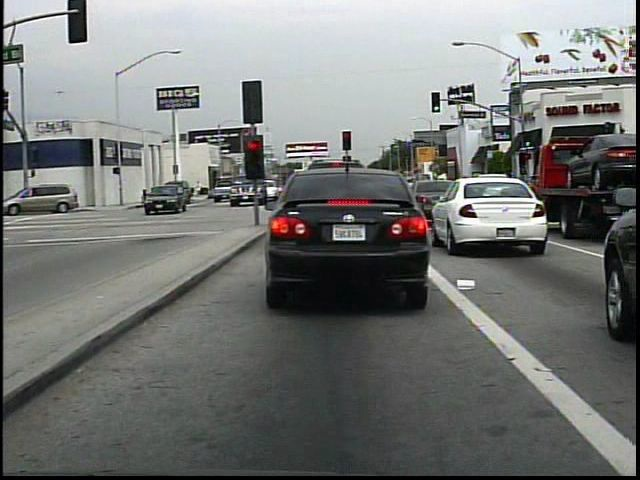person: (193, 177, 205, 201)
